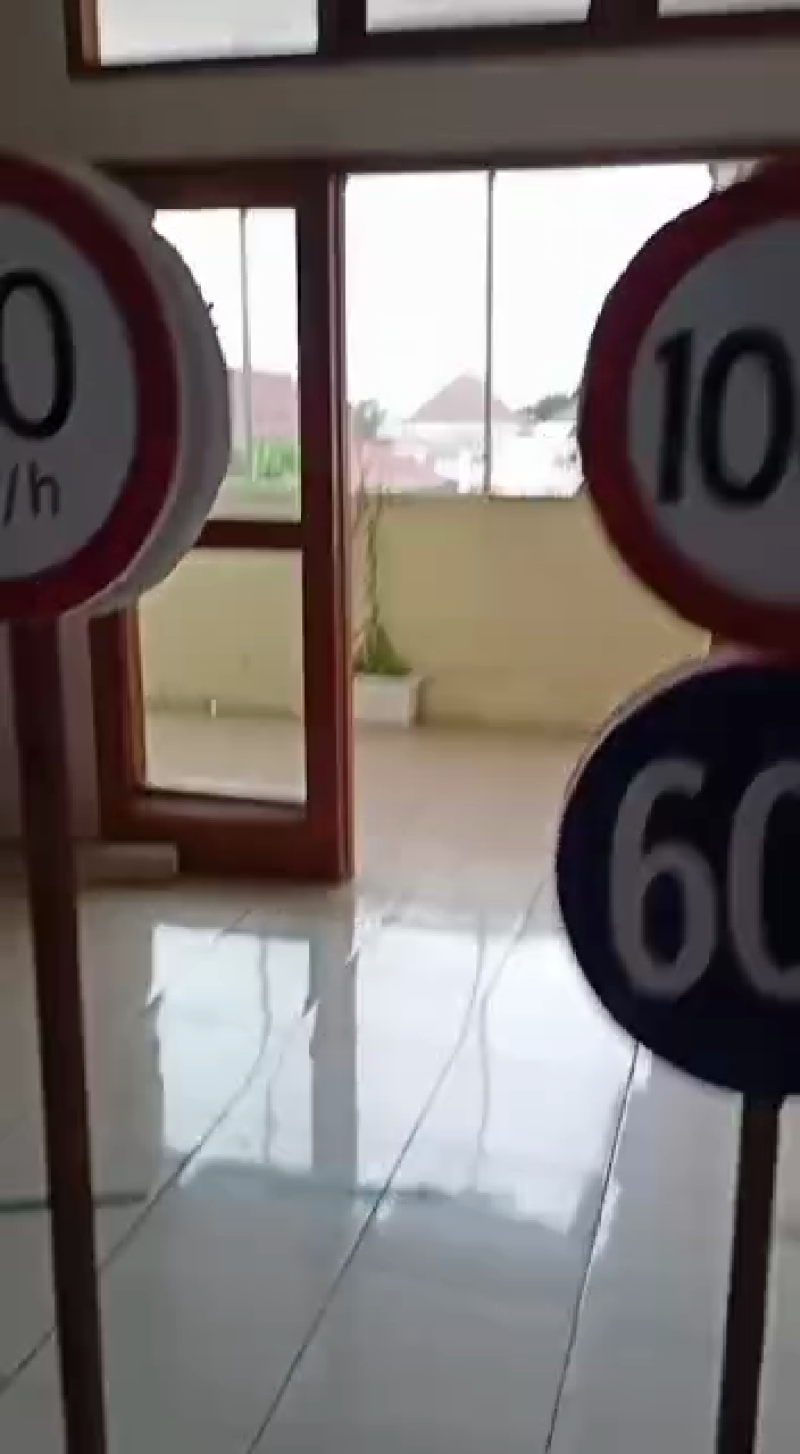batas maksimal 100kmperjam minimal 60kmperjam: (562, 150, 800, 1111)
